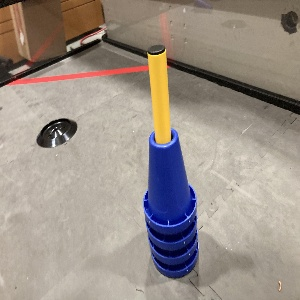Blue_4: (142, 126, 198, 278)
